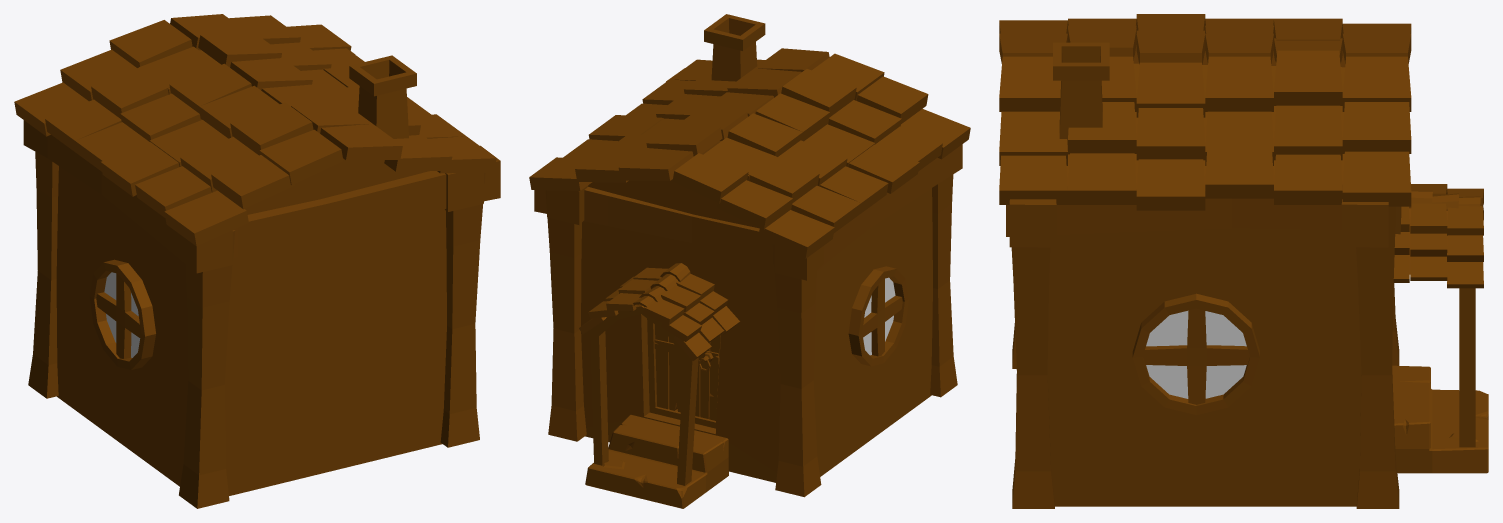
The model's file is дом3 .fbx.
3 renders of one model, left to right at view 1: azimuth 30°, elevation 25°; view 2: azimuth 150°, elevation 25°; view 3: azimuth 270°, elevation 25°, orthographic. The views are drawn at different scales.
Visible parts, largest first — view 1: Куб.011; view 2: Куб.011; view 3: Куб.011.
Boxes of the visible parts, <box> form: Куб.011: <box>14,14,500,508</box>; Куб.011: <box>529,14,970,508</box>; Куб.011: <box>999,14,1488,508</box>.
Bounding box in the file's own units: 134 × 151 × 157.
